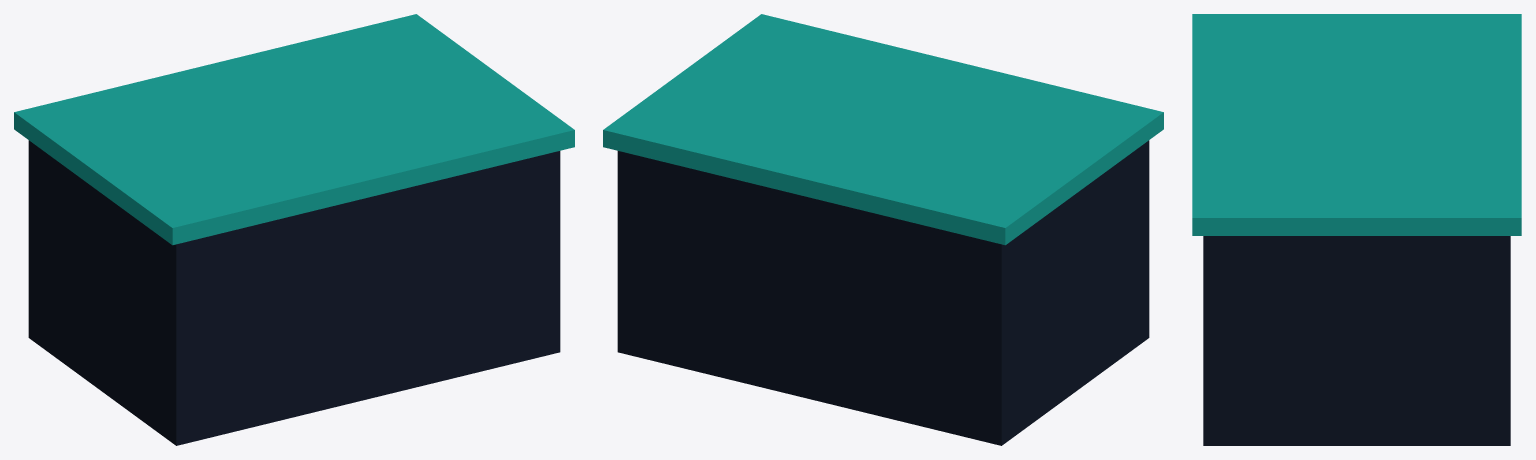
Rendered from shelter.glb.
3 views of the same model, side by side, from view 1: azimuth 30°, elevation 25°; view 2: azimuth 150°, elevation 25°; view 3: azimuth 270°, elevation 25° (orthographic). The views are drawn at different scales.
Visible parts, largest first — view 1: Base, Roof; view 2: Base, Roof; view 3: Roof, Base.
Part boxes in pixels (bbox=[...]): Base: bbox=[28, 140, 560, 445]; Roof: bbox=[14, 14, 574, 245]; Base: bbox=[617, 140, 1149, 445]; Roof: bbox=[603, 14, 1163, 245]; Roof: bbox=[1192, 14, 1521, 235]; Base: bbox=[1203, 236, 1510, 445].
Size of the model in its own units: 4.4 by 2.34 by 3.
